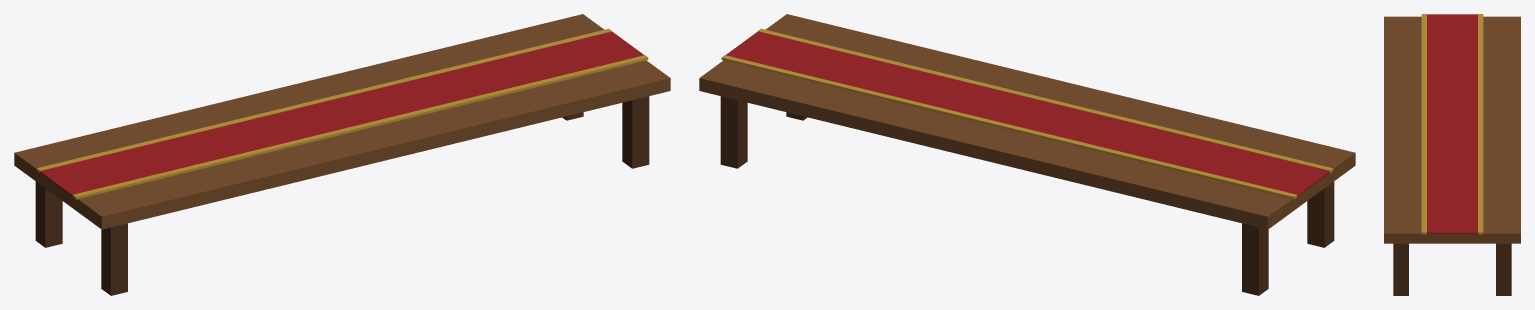
Rendered from ld-long-table.glb.
3 views of the same model, side by side, from view 1: azimuth 30°, elevation 25°; view 2: azimuth 150°, elevation 25°; view 3: azimuth 270°, elevation 25° (orthographic). The views are drawn at different scales.
Parts seen in each view (by area): view 1: box-prop; view 2: box-prop; view 3: box-prop.
Part boxes in pixels (x1=…): box-prop: x1=14, y1=14, x2=670, y2=295; box-prop: x1=699, y1=14, x2=1355, y2=295; box-prop: x1=1384, y1=14, x2=1520, y2=295.
Bounding box in the file's own units: 6.04 × 0.905 × 1.6.
